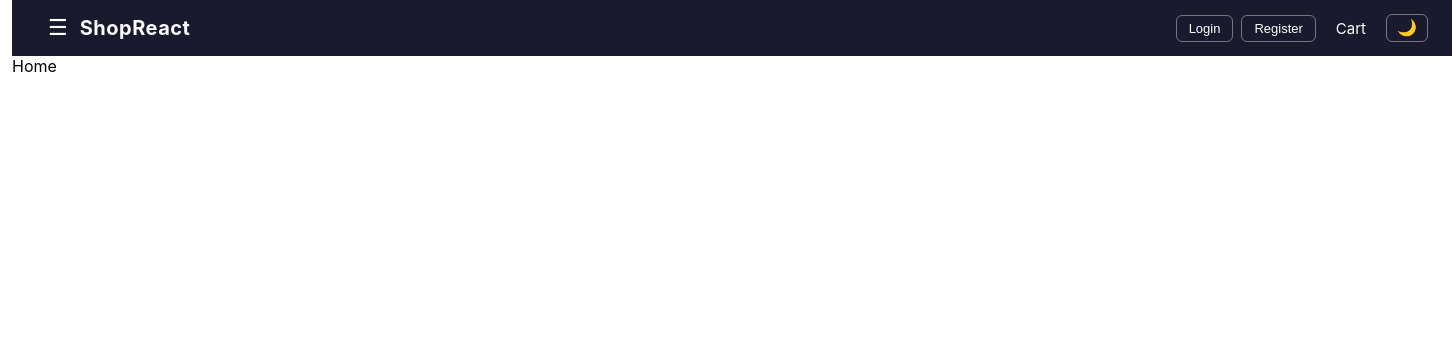
it: Navbar — Cart link navigates to /cart › clicking the Cart link in the Navbar renders the CartPage at /cart
Expected: the text "Home" is shown, [12,56,57,76]
# Click the Cart link
Click the link "Cart" at (1351, 28), box [1336,18,1366,38]
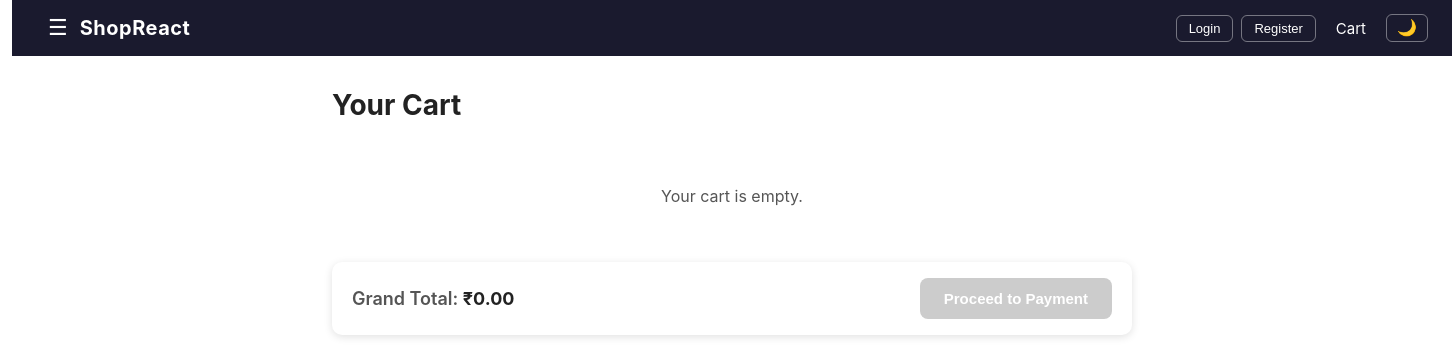
Expected: the text "Your cart is empty." is shown, [661,186,803,206]
